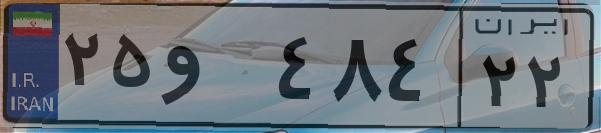2: (57, 26, 110, 100), (475, 38, 525, 113), (525, 38, 570, 115)
4: (270, 28, 330, 110), (385, 28, 445, 110)
5: (110, 28, 158, 98)
8: (330, 28, 385, 110)
و: (158, 20, 270, 120)
